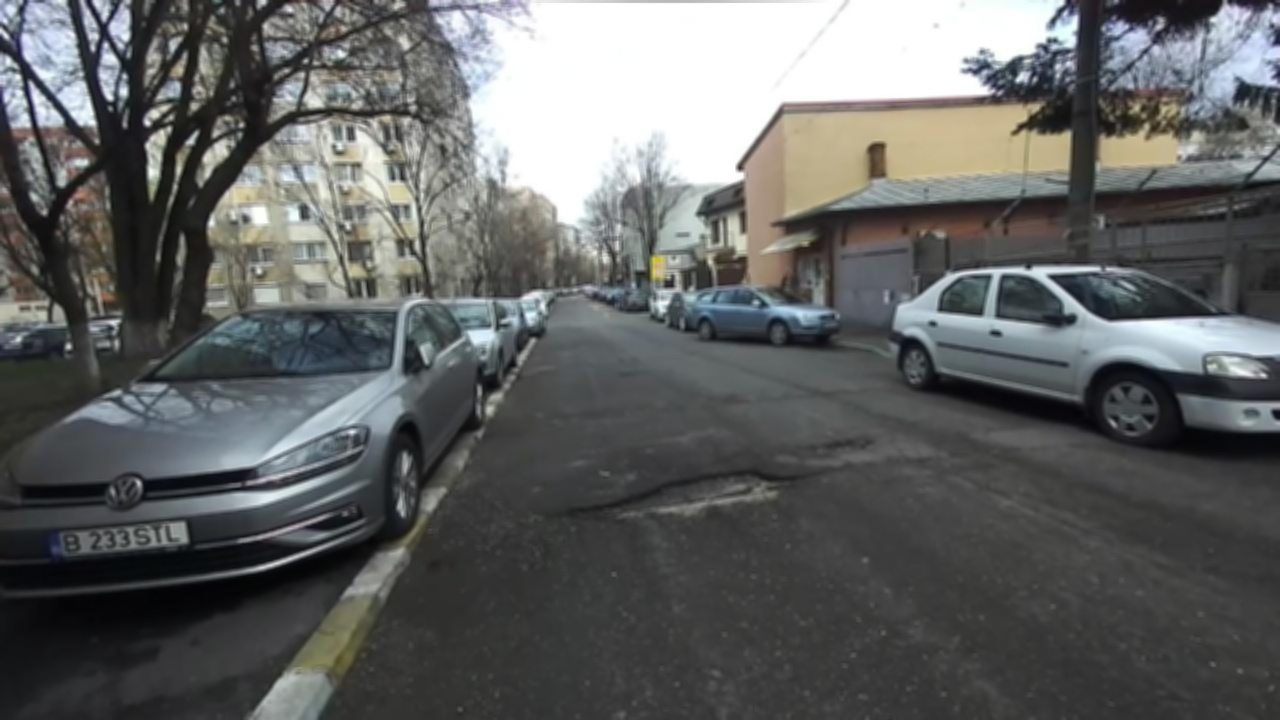pothole: (562, 466, 828, 521), (801, 428, 881, 456)
